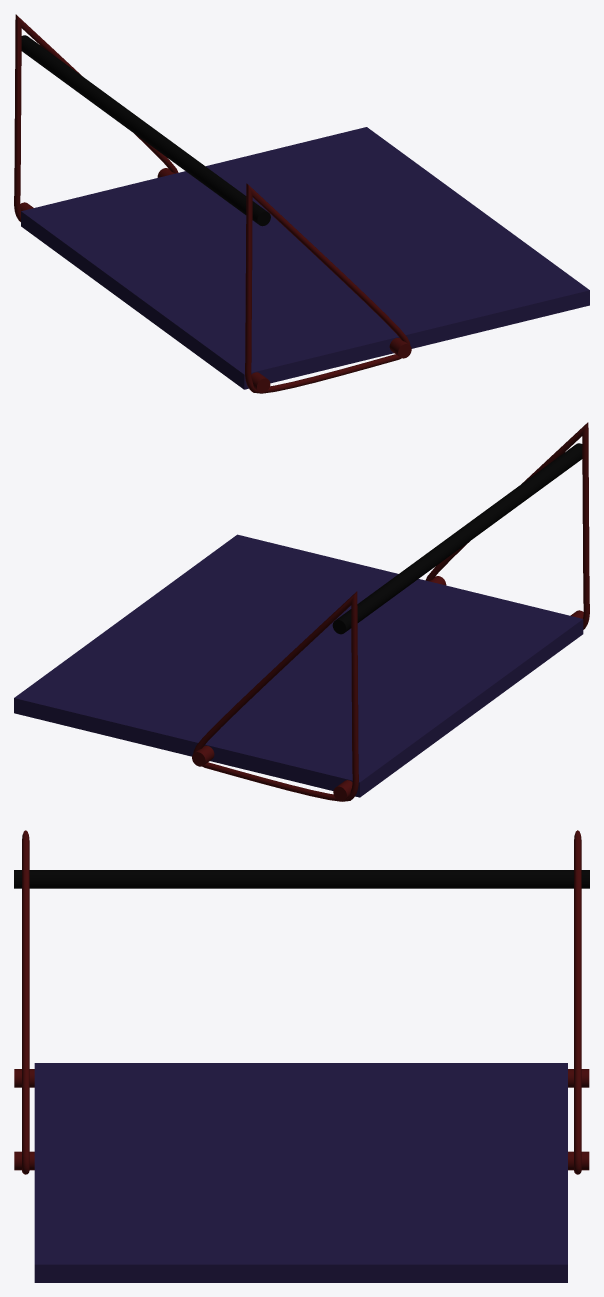
The model's file is Raf.FBX.
3 renders of one model, top to bottom at view 1: azimuth 30°, elevation 25°; view 2: azimuth 150°, elevation 25°; view 3: azimuth 270°, elevation 25°, orthographic. The views are drawn at different scales.
Parts seen in each view (by area): view 1: Box021; view 2: Box021; view 3: Box021.
Boxes of the visible parts, x1,y1,x2,y2 form: Box021: (14, 14, 589, 393); Box021: (14, 422, 589, 801); Box021: (14, 830, 589, 1282).
Size of the model in its own units: 627 by 371 by 751.
